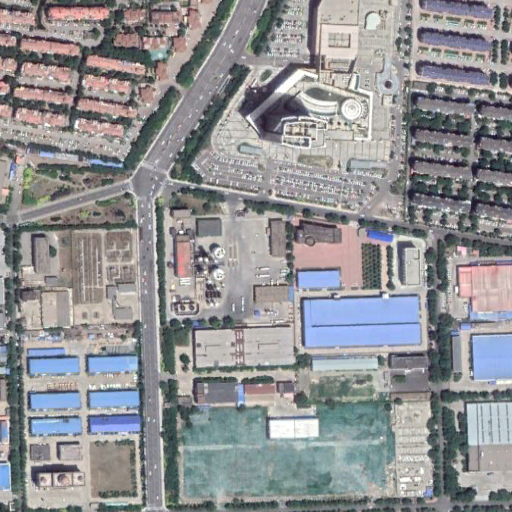cw: (177, 399, 393, 498)
